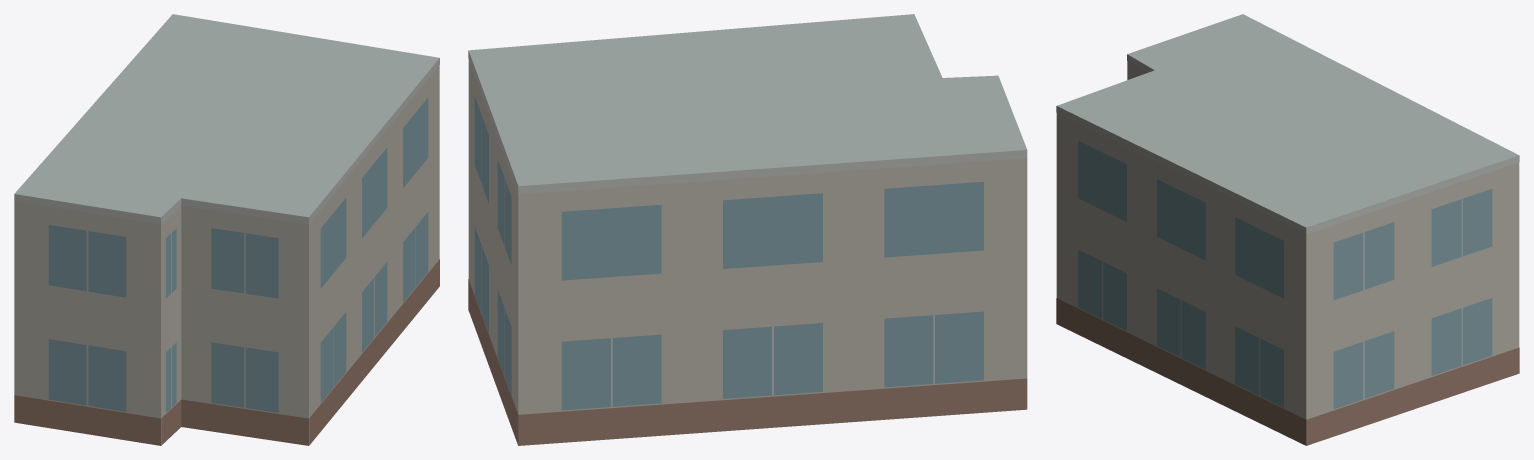
Rendered from survey-upis-32636314.glb.
The picture shows the model from 3 angles, left to right: view 1: azimuth 30°, elevation 25°; view 2: azimuth 150°, elevation 25°; view 3: azimuth 270°, elevation 25°; orthographic projection. The views are drawn at different scales.
Visible parts, largest first — view 1: survey-upis-32636314.tmp; view 2: survey-upis-32636314.tmp; view 3: survey-upis-32636314.tmp.
Part boxes in pixels (x1,y1,x2,y2): survey-upis-32636314.tmp: (14, 14, 439, 445); survey-upis-32636314.tmp: (468, 14, 1027, 445); survey-upis-32636314.tmp: (1056, 14, 1519, 445).
Size of the model in its own units: 16.39 by 7.8 by 15.
